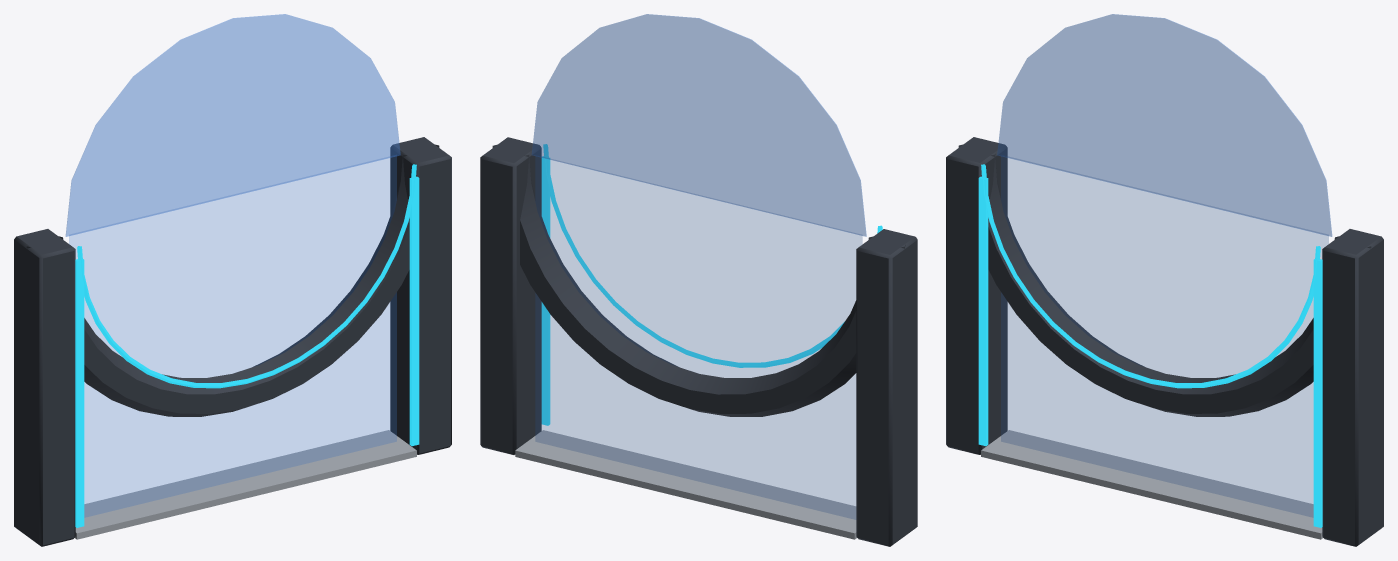
Rendered from forcefield_hangar_field_arch.glb.
The picture shows the model from 3 angles, left to right: view 1: azimuth 30°, elevation 25°; view 2: azimuth 150°, elevation 25°; view 3: azimuth 330°, elevation 25°; orthographic projection.
Parts seen in each view (by area): view 1: forcefield_hangar_field_arch; view 2: forcefield_hangar_field_arch; view 3: forcefield_hangar_field_arch.
Boxes of the visible parts, x1,y1,x2,y2 form: forcefield_hangar_field_arch: [14, 14, 451, 546]; forcefield_hangar_field_arch: [480, 14, 917, 546]; forcefield_hangar_field_arch: [946, 14, 1383, 546].
Size of the model in its own units: 3.4 by 3.7 by 0.42.
